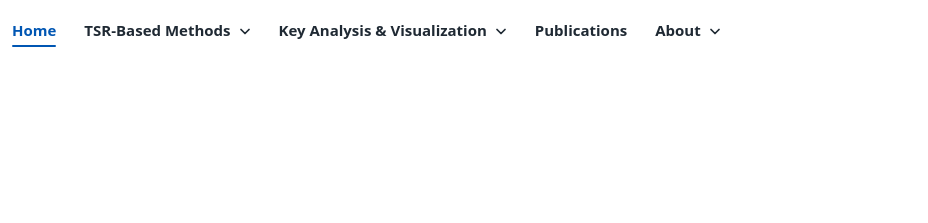
Test: desktop navigation › keeps only one dropdown open at a time
Click the button "TSR-Based Methods".
click(168, 30)  # box 72,12 -> 263,49
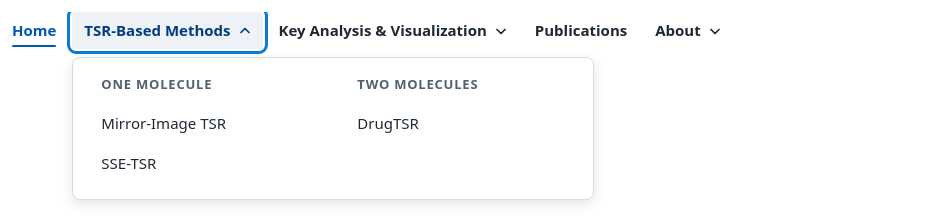
Click the button "About".
click(688, 30)  # box 643,12 -> 733,49
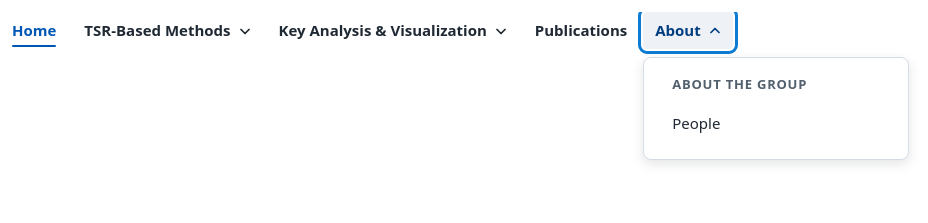
Expected: the button "TSR-Based Methods" is collapsed, 72,12 -> 263,49
Expected: the button "About" is expanded, 643,12 -> 733,49
